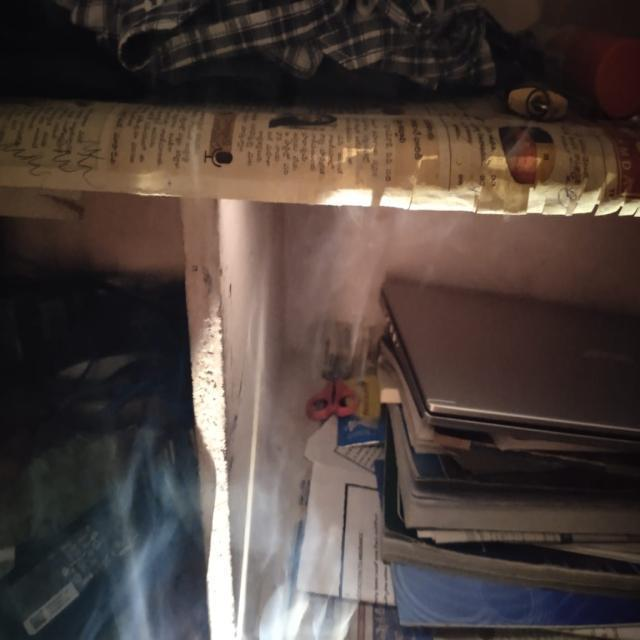fire: (151, 249, 385, 638)
